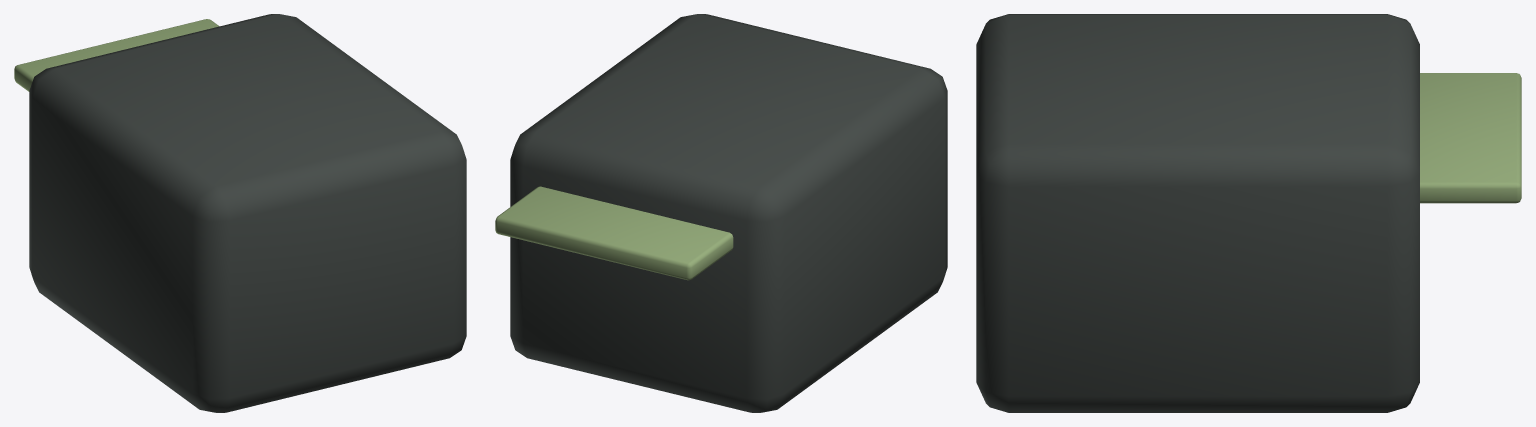
Rendered from equipment_card_terminal.glb.
The picture shows the model from 3 angles, left to right: view 1: azimuth 30°, elevation 25°; view 2: azimuth 150°, elevation 25°; view 3: azimuth 270°, elevation 25°; orthographic projection. The views are drawn at different scales.
Visible parts, largest first — view 1: Body, Screen; view 2: Body, Screen; view 3: Body, Screen.
Part boxes in pixels (left/top/right/bottom): Body: left=29, top=14, right=466, bottom=412; Screen: left=14, top=19, right=219, bottom=91; Body: left=510, top=14, right=947, bottom=412; Screen: left=495, top=186, right=733, bottom=280; Body: left=976, top=14, right=1419, bottom=412; Screen: left=1420, top=73, right=1521, bottom=203.
Size of the model in its own units: 0.4 by 0.32 by 0.59.
